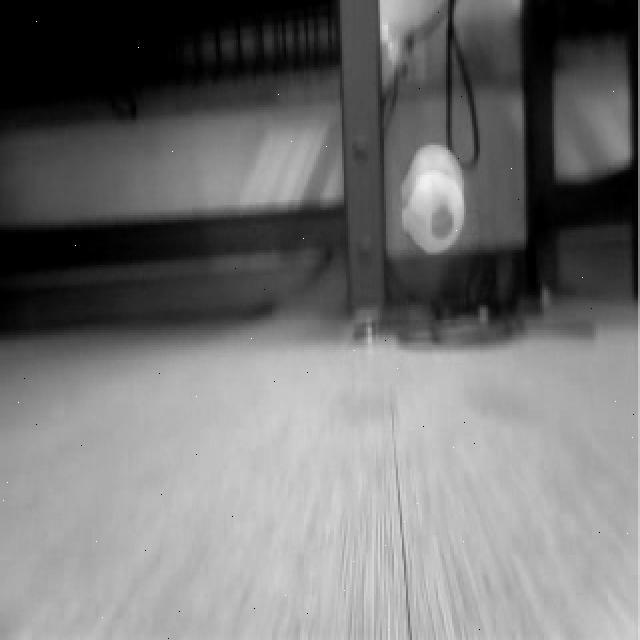ping-pong-ball: (402, 145, 472, 268)
